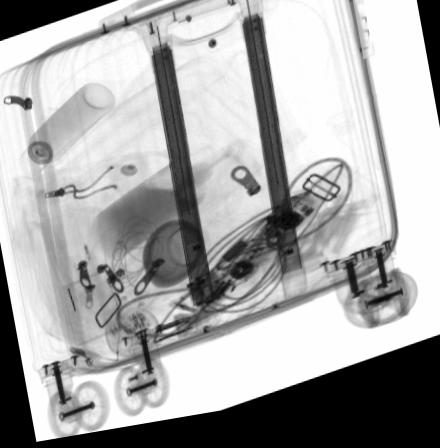Sprayer: (17, 84, 114, 177)
